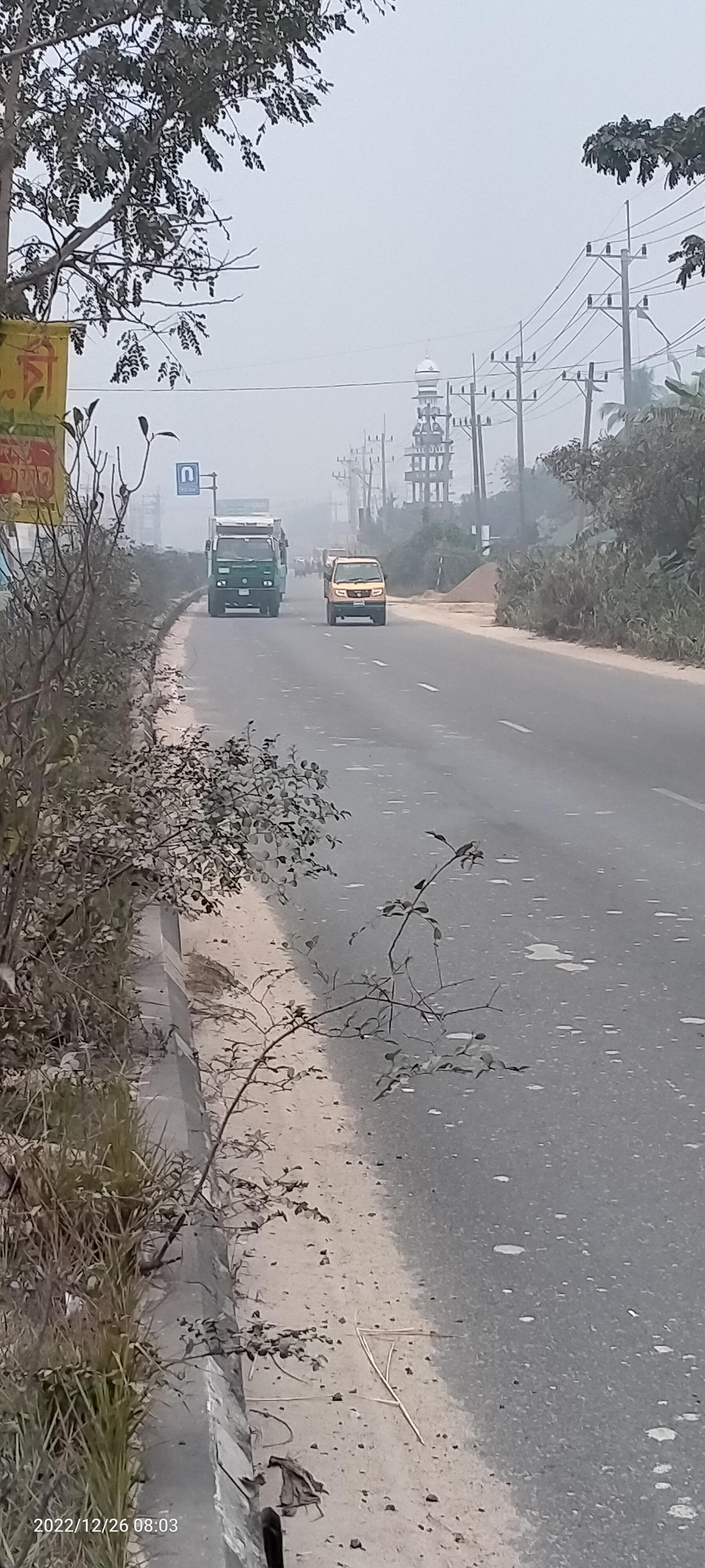Truck: (208, 512, 284, 619), (323, 555, 391, 628)
